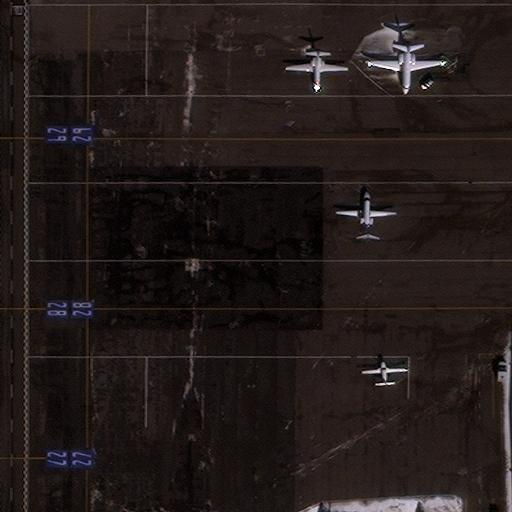Medium Civil Transport: (370, 44, 443, 94), (335, 191, 395, 238), (286, 49, 347, 90)
Small Civil Transport: (361, 361, 406, 385)
